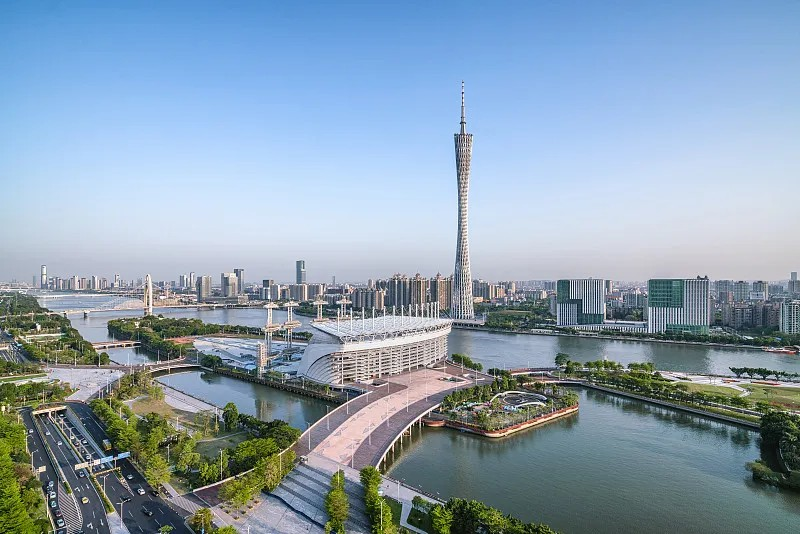Canton: (446, 78, 480, 321)
